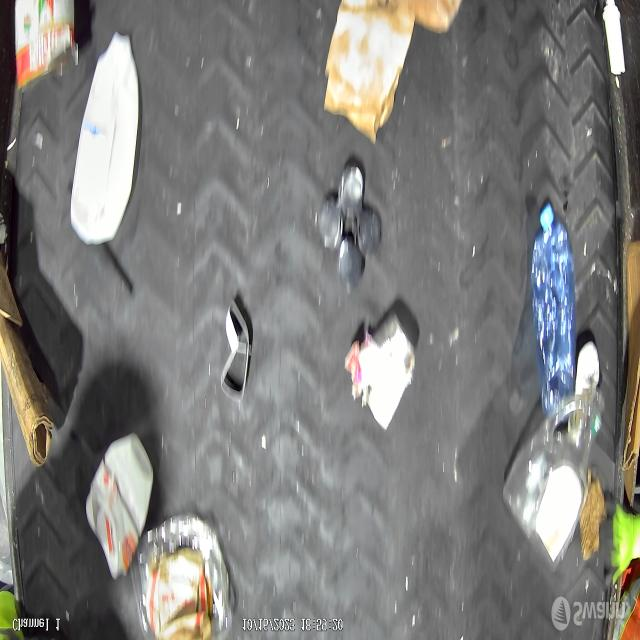can: (352, 309, 417, 431), (14, 0, 79, 93)
milk_jug: (70, 33, 140, 244)
plastic_bottle: (503, 390, 606, 573), (530, 201, 578, 417)
